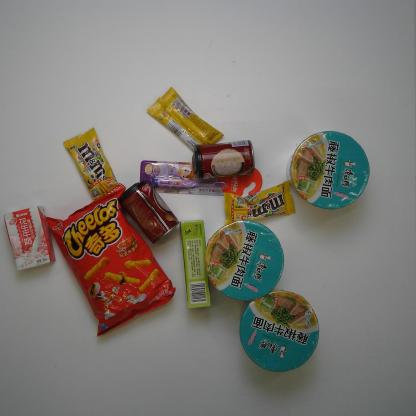Canned Food: (119, 180, 180, 244), (192, 138, 256, 182)
Chocolate: (147, 86, 223, 153), (63, 126, 118, 198), (222, 180, 296, 228)
Instant Drink: (180, 220, 212, 311)
Instant Noodles: (237, 291, 319, 373), (204, 220, 285, 301), (285, 132, 370, 209)
Milk: (3, 206, 56, 274)
Personal Hygiene: (138, 158, 263, 198)
Puffed Food: (44, 185, 176, 336)
